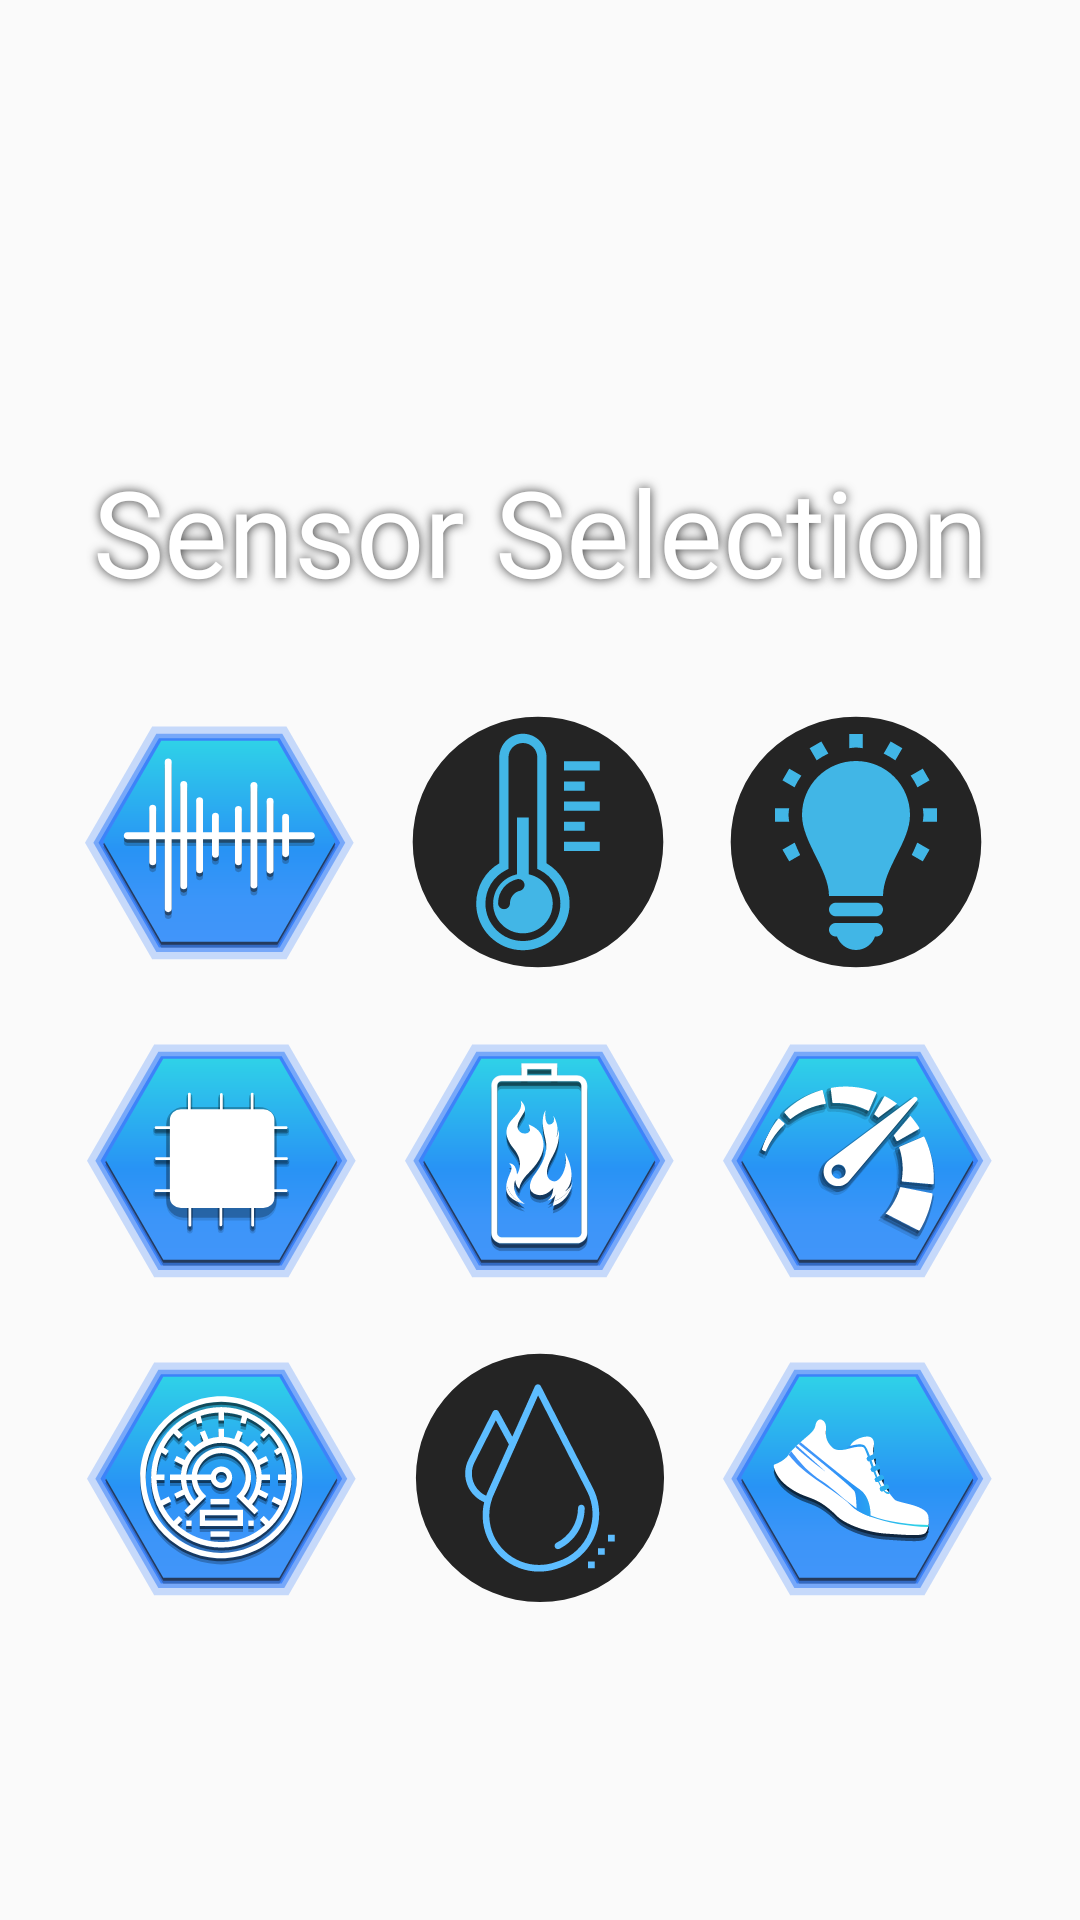

Locate icon controls on the screen. Image size 1080x1920, boxes as (x1, y1, x2, y2).
Battery Button: (405, 1044, 673, 1277)
Humidity Button: (416, 1353, 664, 1602)
Light Button: (730, 716, 982, 968)
Pressure Button: (87, 1362, 355, 1595)
Ram Button: (87, 1044, 355, 1277)
Sound Button: (85, 726, 353, 959)
Speed Button: (723, 1044, 991, 1277)
Walk Button: (723, 1362, 991, 1595)
